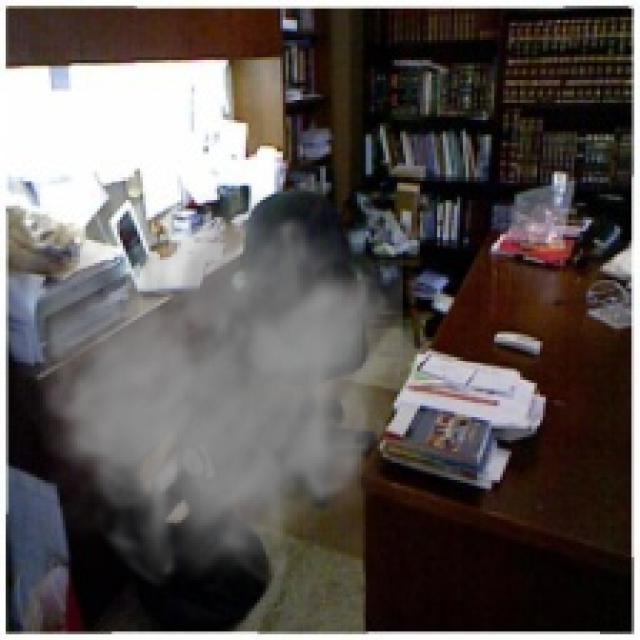Smoke: (0, 186, 403, 592)
